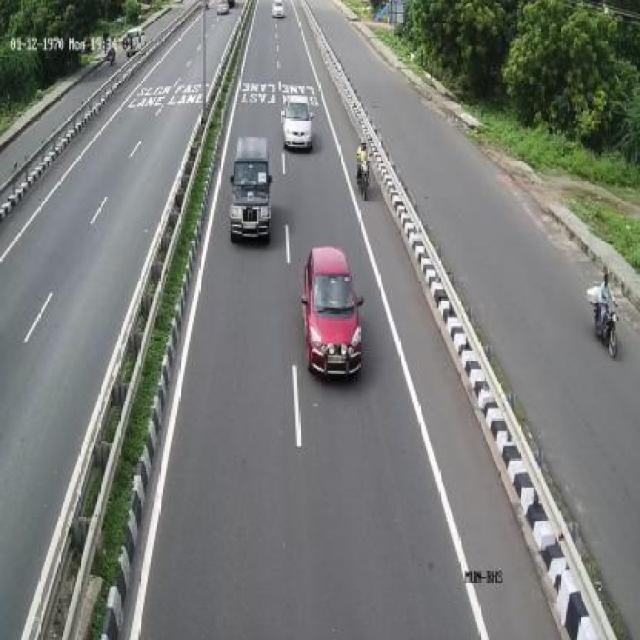car: (303, 237, 365, 383), (272, 80, 318, 154)
